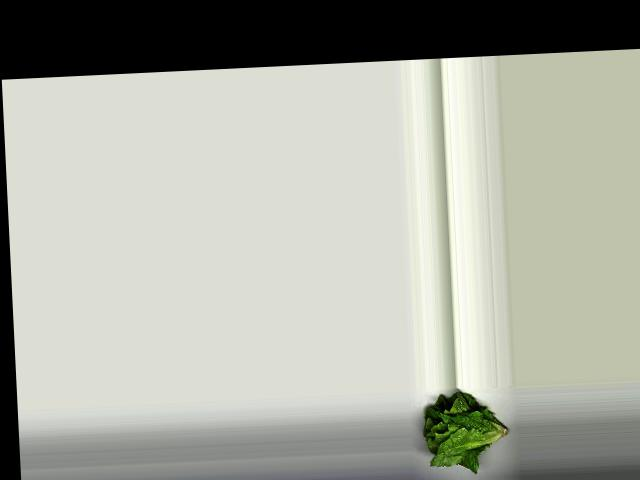lettuce: (416, 390, 513, 468)
